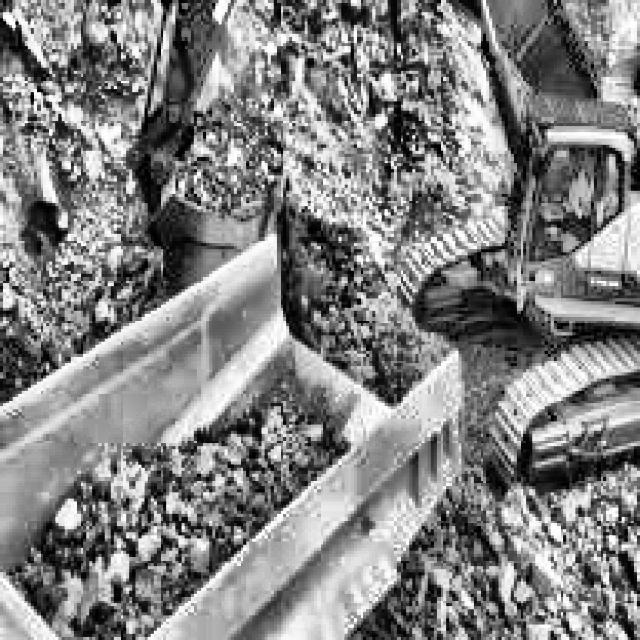dump_truck: (0, 224, 464, 640)
excavator: (123, 0, 640, 498)
